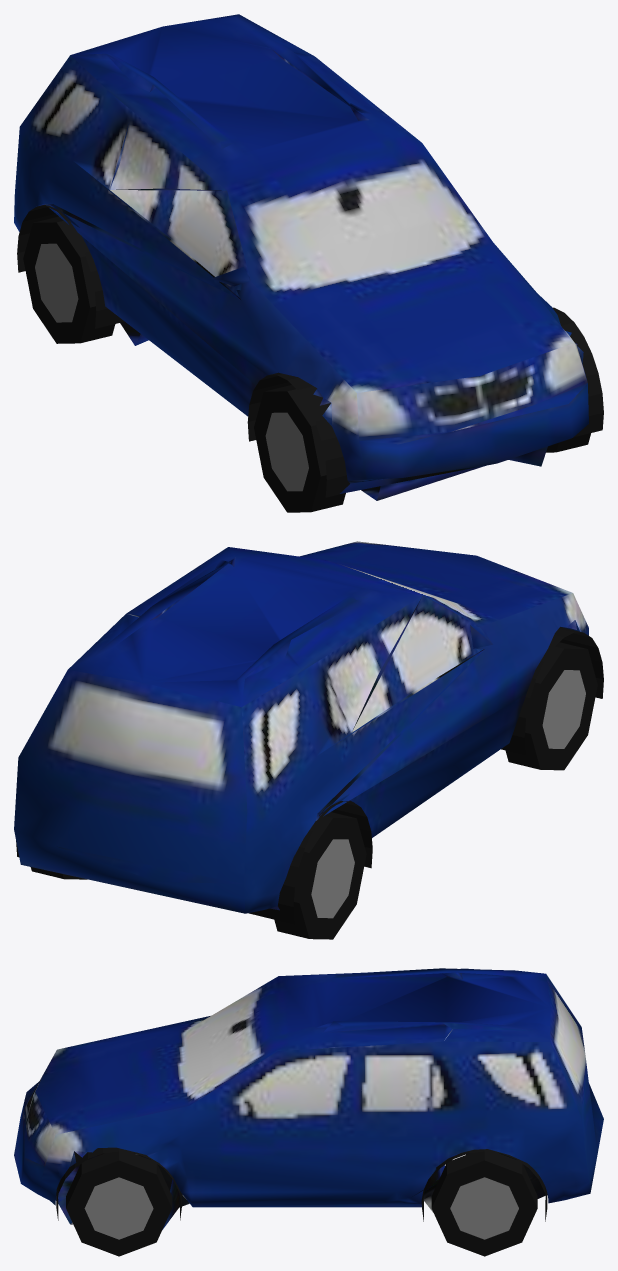
Rendered from suv-far.glb.
3 renders of one model, top to bottom at view 1: azimuth 30°, elevation 25°; view 2: azimuth 150°, elevation 25°; view 3: azimuth 270°, elevation 25°, orthographic. The views are drawn at different scales.
Visible parts, largest first — view 1: suv-far; view 2: suv-far; view 3: suv-far.
Part boxes in pixels (left/top/right/bottom): suv-far: left=14, top=14, right=603, bottom=512; suv-far: left=14, top=541, right=603, bottom=939; suv-far: left=14, top=968, right=603, bottom=1256.
Size of the model in its own units: 2.04 by 1.84 by 4.7.
Materials: 1 (1 with a texture image).
